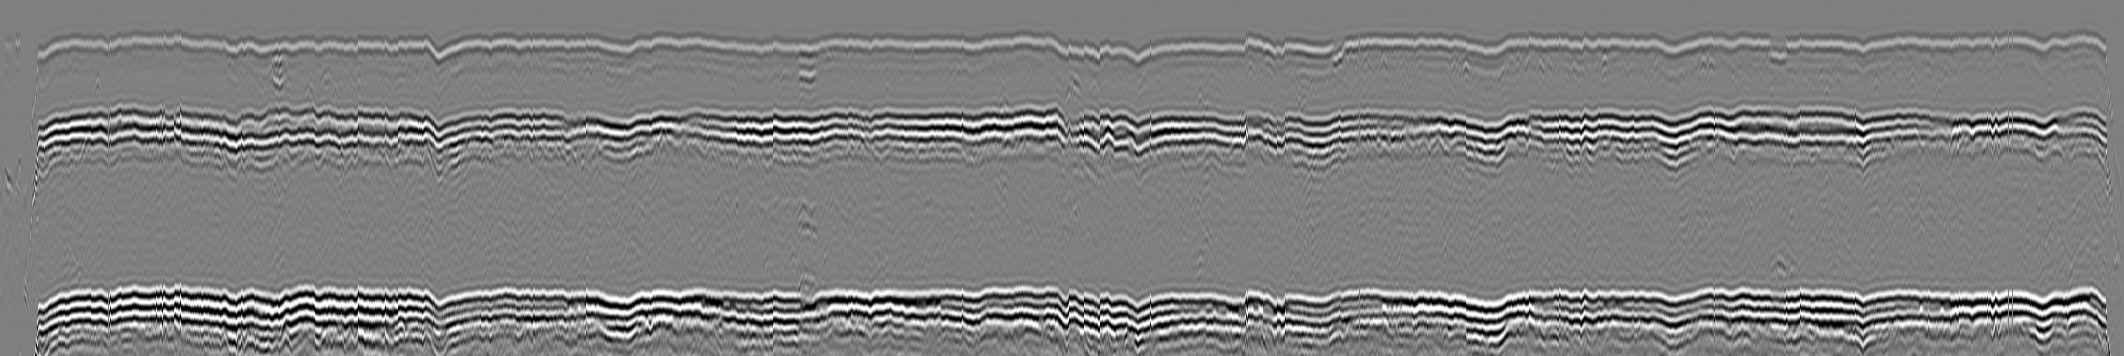fault: (1651, 102, 1714, 190), (416, 97, 473, 194), (1044, 92, 1099, 177), (1644, 24, 1707, 89), (417, 8, 467, 85), (2022, 18, 2068, 83), (1314, 26, 1364, 83), (1758, 23, 1806, 80)
